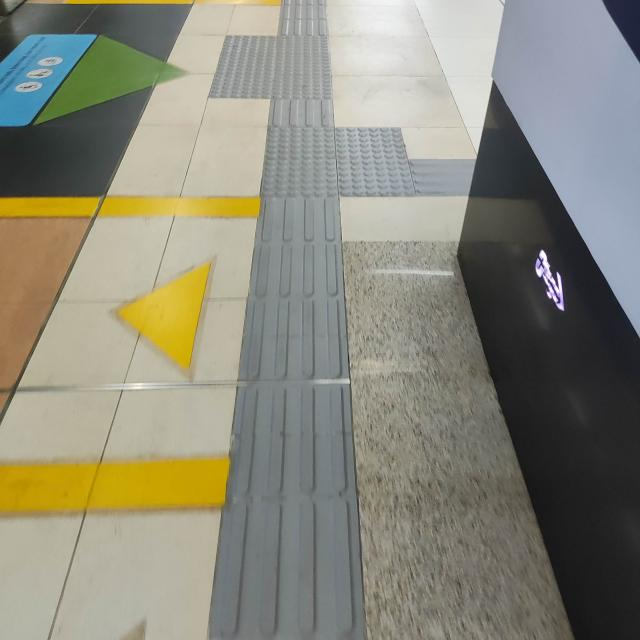lurus: (228, 107, 382, 640)
